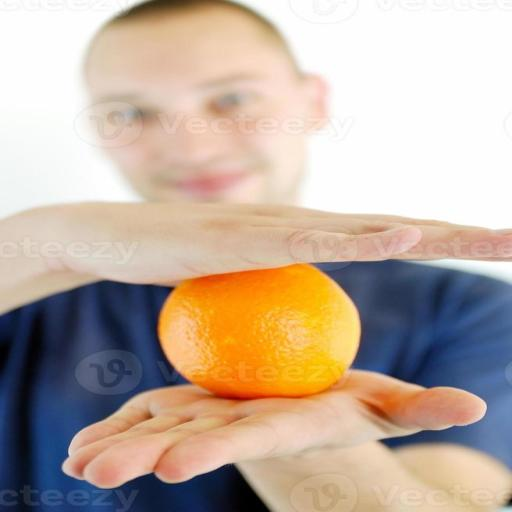orange: (159, 264, 360, 399)
